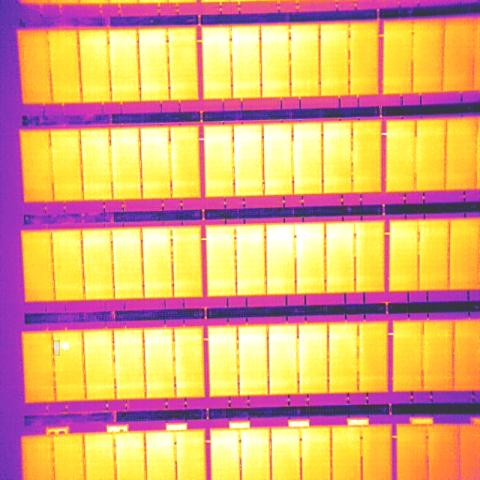fault: (53, 340, 60, 356), (62, 340, 69, 350)
